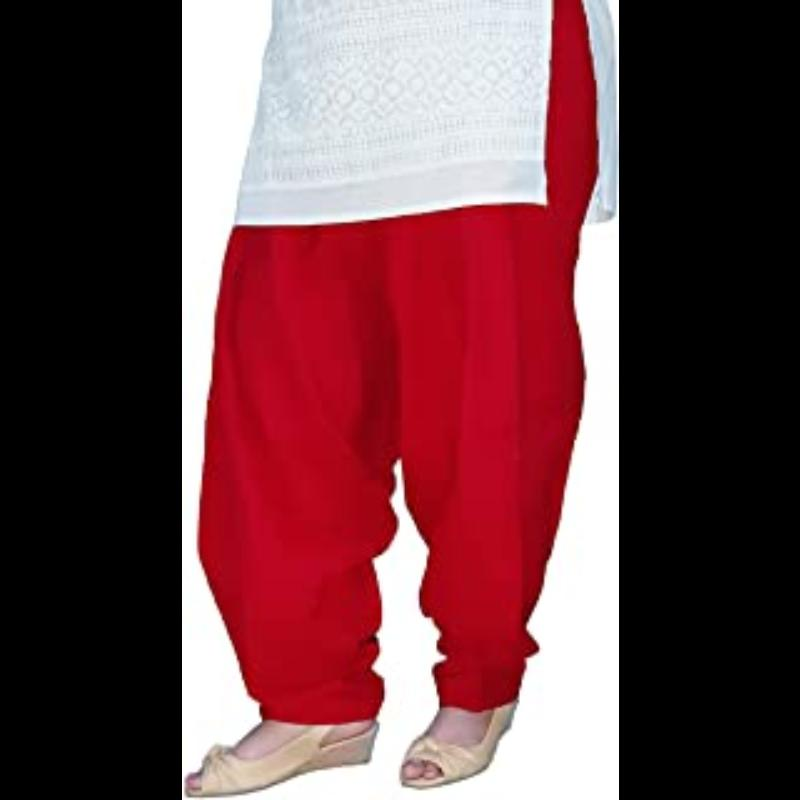Pant: (206, 224, 596, 714)
kurta: (219, 0, 619, 224)
